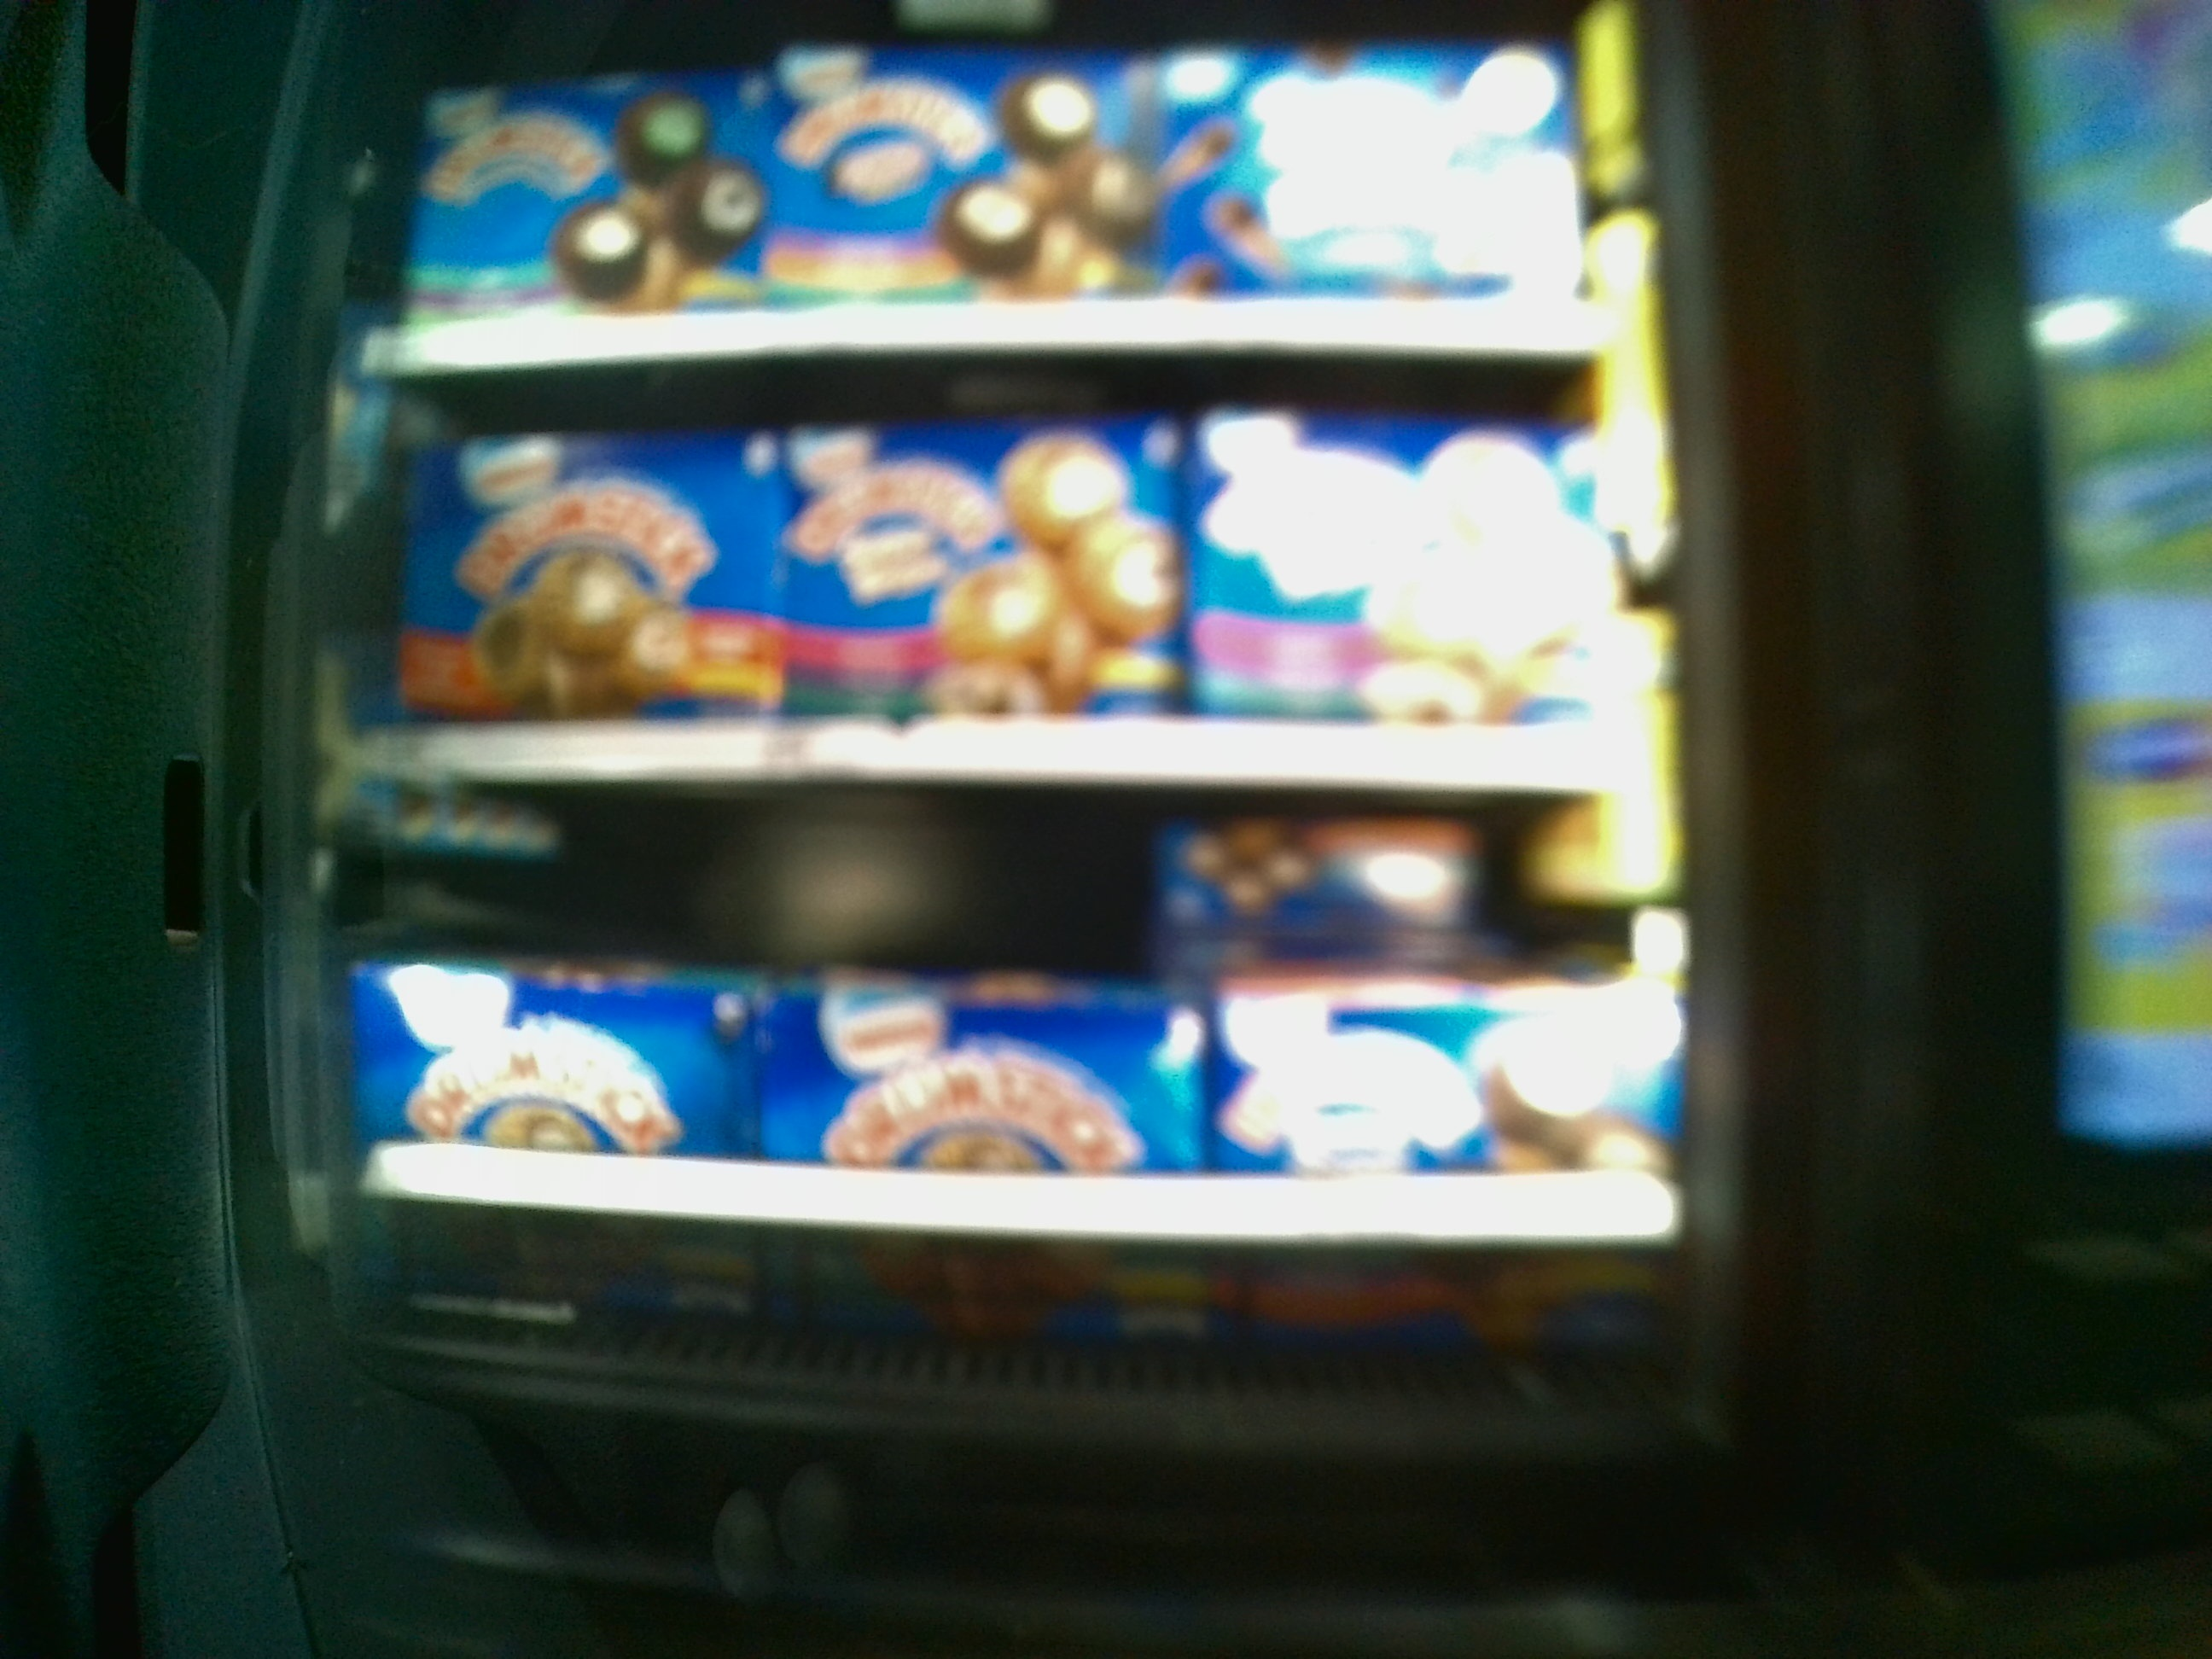shelf: (366, 788, 1660, 1417), (355, 380, 1674, 798)
